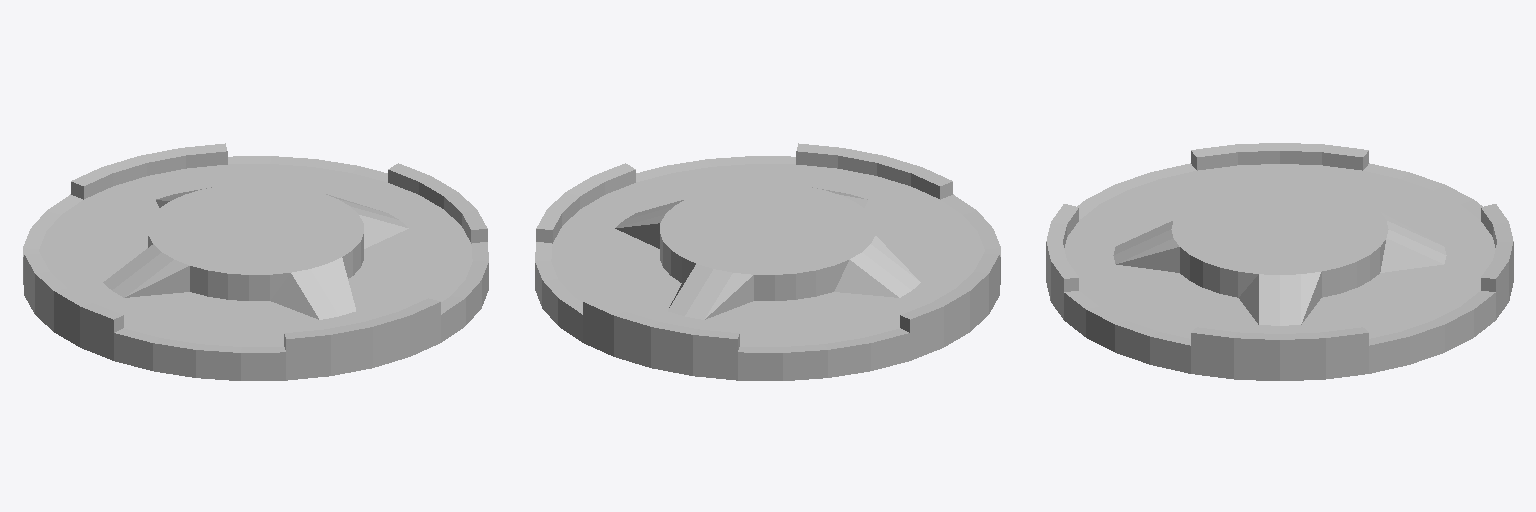
The model's file is level2.obj.
The picture shows the model from 3 angles: view 1: azimuth 30°, elevation 25°; view 2: azimuth 150°, elevation 25°; view 3: azimuth 270°, elevation 25°; orthographic projection.
Visible parts, largest first — view 1: Cylinder; view 2: Cylinder; view 3: Cylinder.
Part boxes in pixels (x1,y1,x2,y2): Cylinder: (23, 143, 488, 380); Cylinder: (535, 143, 1000, 380); Cylinder: (1046, 143, 1513, 380).
Size of the model in its own units: 16.14 by 2.04 by 16.14.